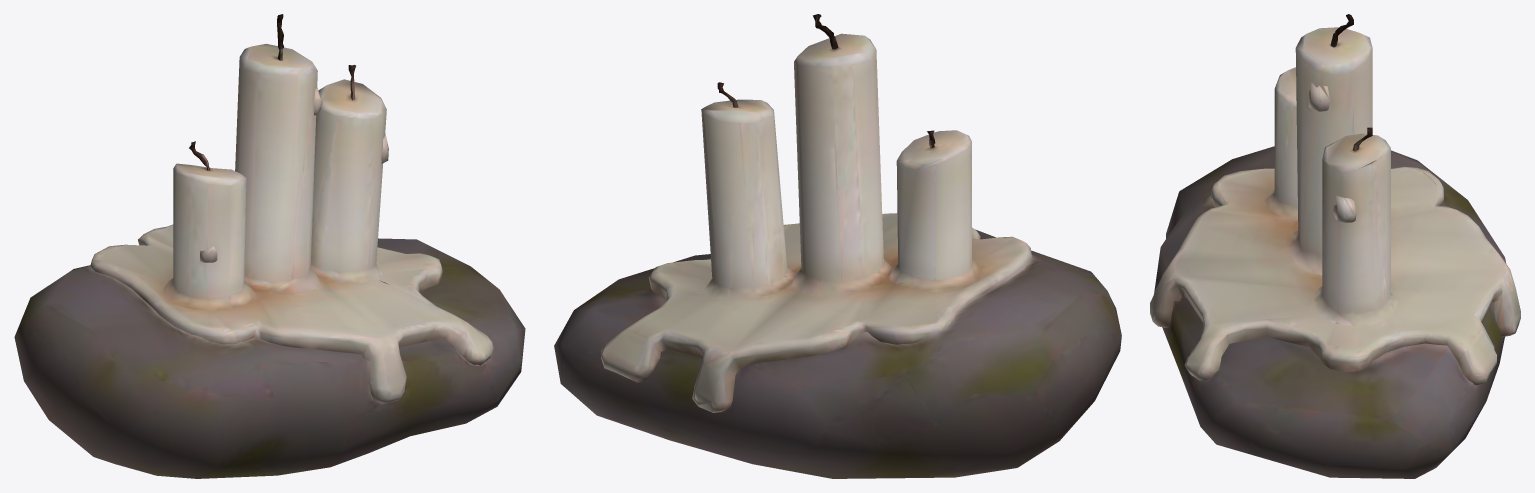
Rendered from wyn_accord_wax_stone.glb.
3 renders of one model, left to right at view 1: azimuth 30°, elevation 25°; view 2: azimuth 150°, elevation 25°; view 3: azimuth 270°, elevation 25°, orthographic. The views are drawn at different scales.
Parts seen in each view (by area): view 1: tripo_node_ff590808-50c6-4f06-ab31-71f0ac39f254; view 2: tripo_node_ff590808-50c6-4f06-ab31-71f0ac39f254; view 3: tripo_node_ff590808-50c6-4f06-ab31-71f0ac39f254.
Boxes of the visible parts, x1,y1,x2,y2 form: tripo_node_ff590808-50c6-4f06-ab31-71f0ac39f254: (14,14,525,478); tripo_node_ff590808-50c6-4f06-ab31-71f0ac39f254: (554,14,1121,478); tripo_node_ff590808-50c6-4f06-ab31-71f0ac39f254: (1150,14,1520,478).
Bounding box in the file's own units: 0.5103 × 0.4 × 0.359.
Materials: 1 (1 with a texture image).
